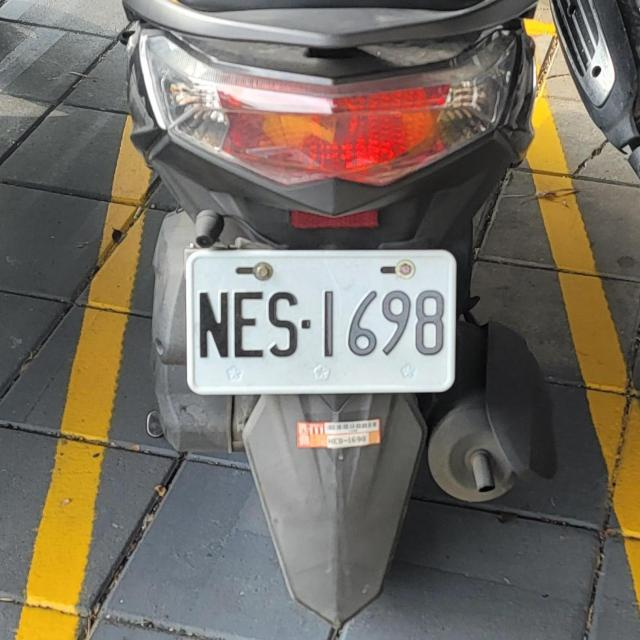W: (180, 237, 462, 401)
